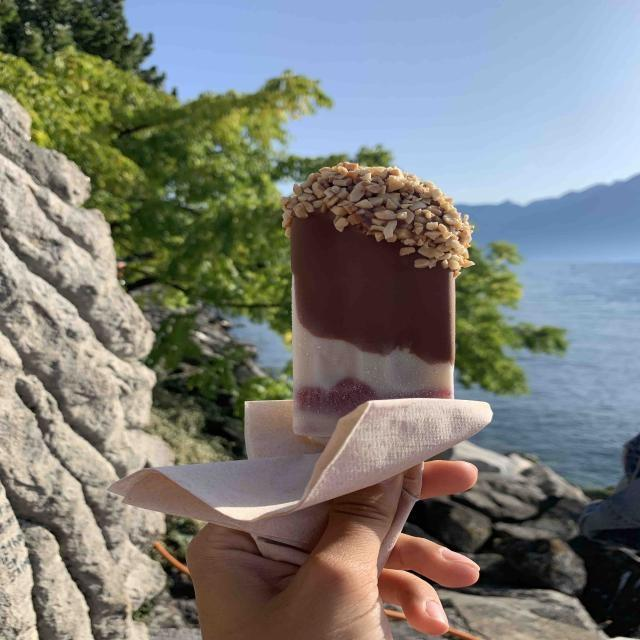nut: (283, 173, 470, 262)
